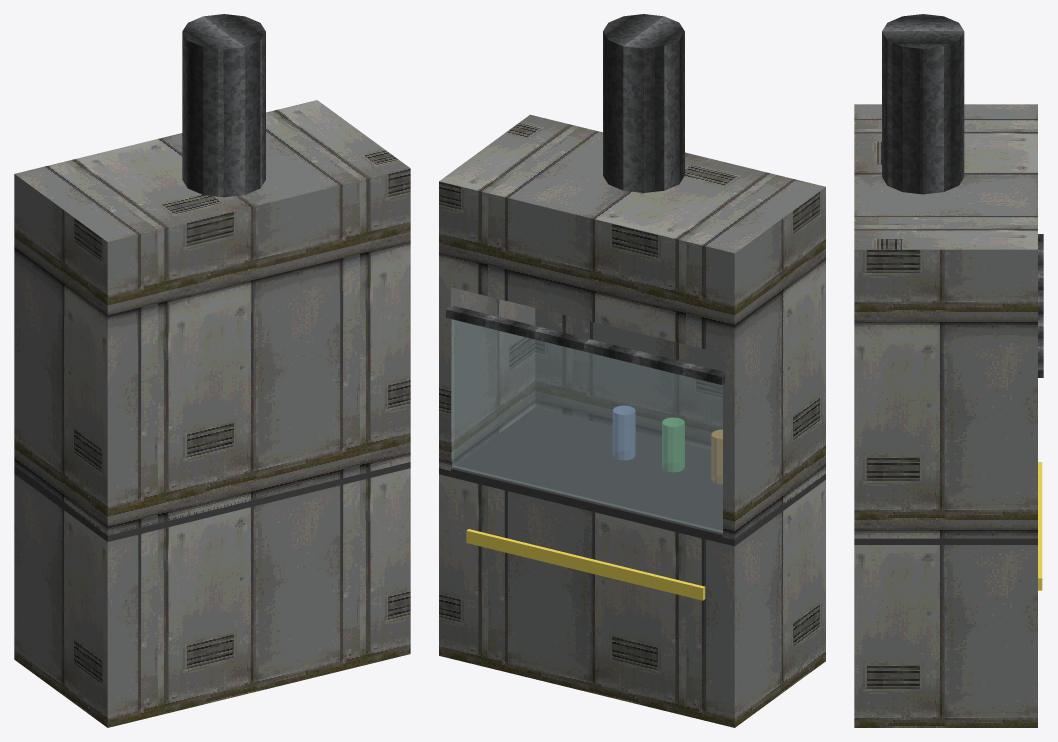
The model's file is fume_hood.glb.
3 views of the same model, side by side, from view 1: azimuth 30°, elevation 25°; view 2: azimuth 150°, elevation 25°; view 3: azimuth 270°, elevation 25° (orthographic). The views are drawn at different scales.
Parts seen in each view (by area): view 1: fume_hood; view 2: fume_hood; view 3: fume_hood.
Boxes of the visible parts, x1=… form: fume_hood: x1=14, y1=14, x2=410, y2=727; fume_hood: x1=439, y1=14, x2=825, y2=727; fume_hood: x1=854, y1=14, x2=1043, y2=727.
Bounding box in the file's own units: 1.5 × 3 × 0.825.
Materials: 9 (2 with a texture image).
